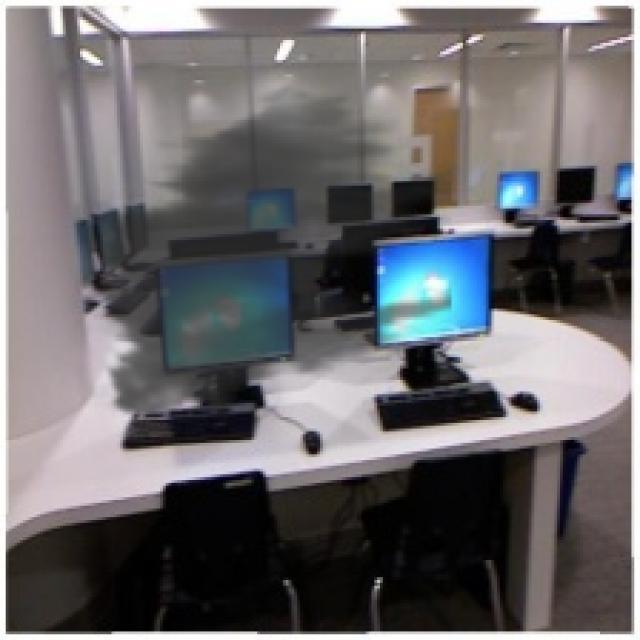Smoke: (74, 74, 452, 440)
